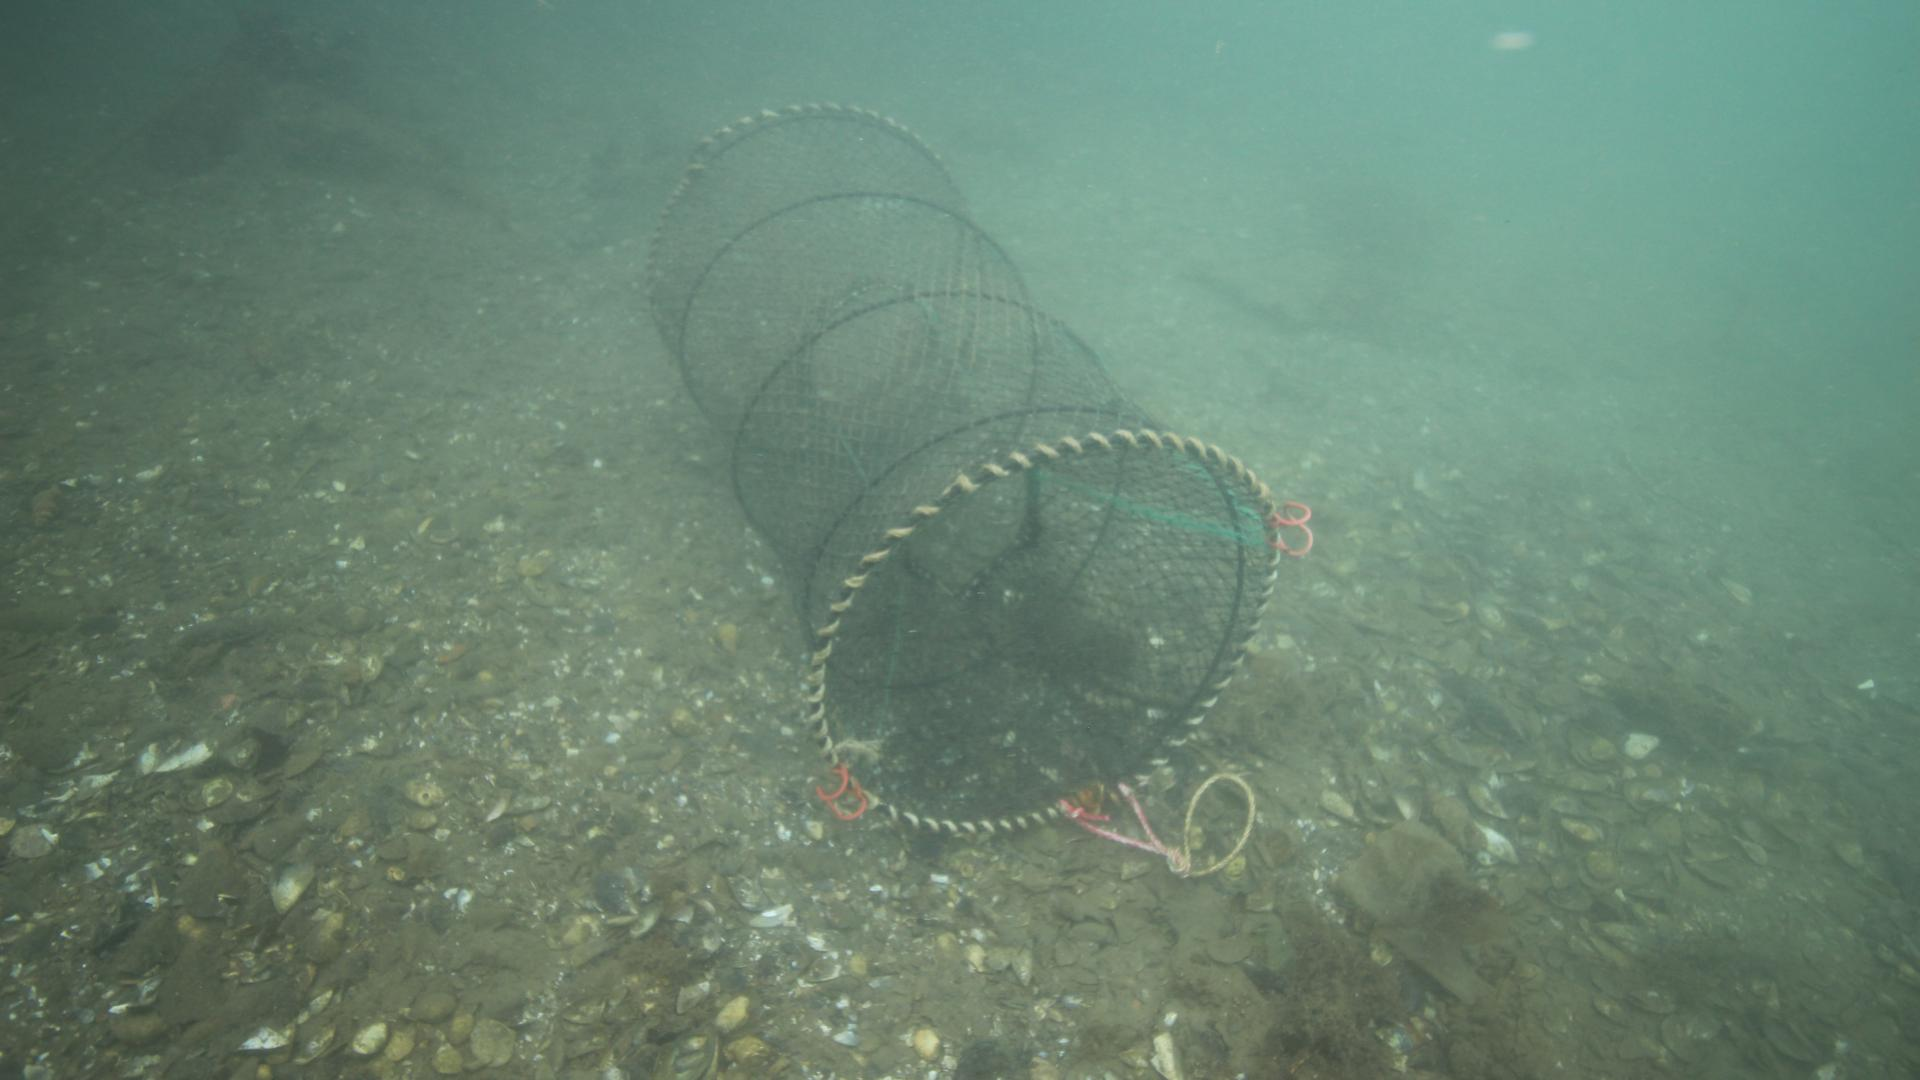bundle of ropes: (1077, 766, 1258, 884)
spring fish trap: (641, 100, 1283, 843)
